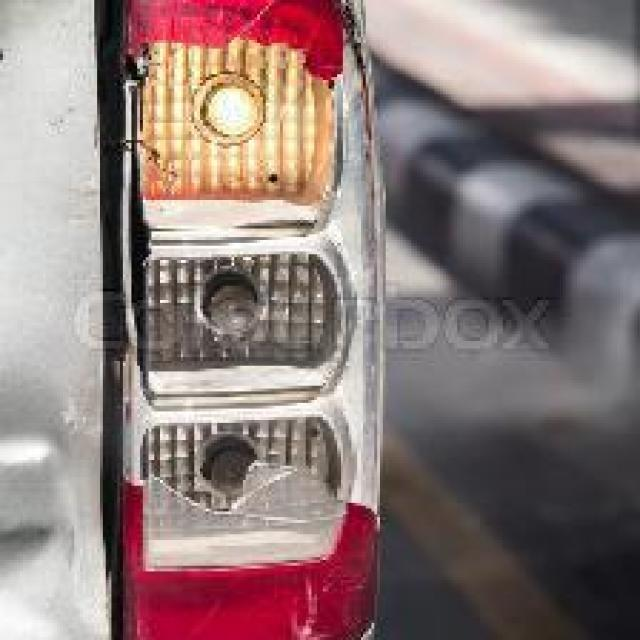damaged: (100, 8, 383, 580)
